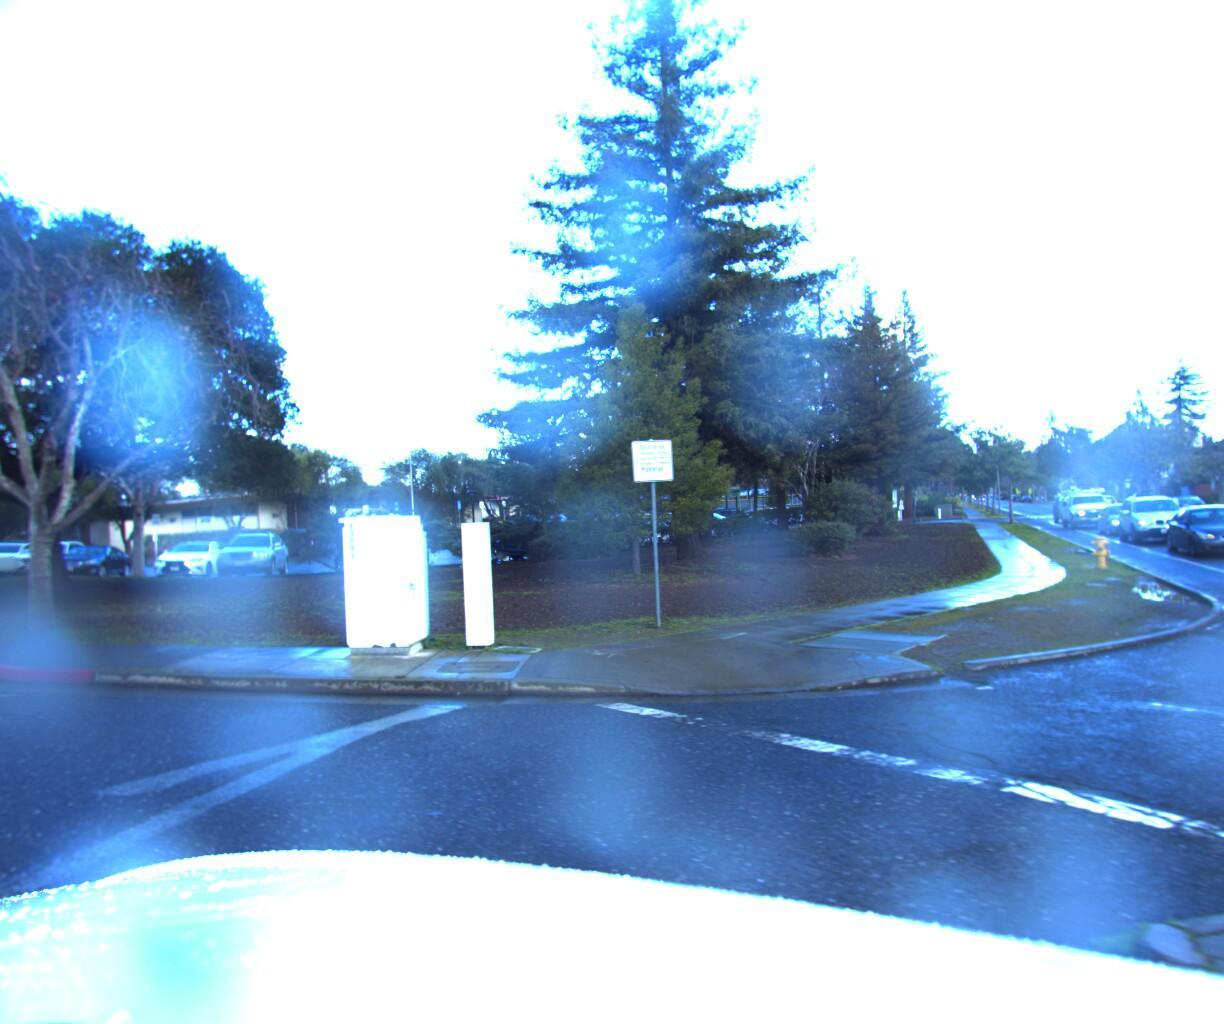car: (1116, 502, 1198, 544), (1158, 509, 1224, 560), (1052, 486, 1121, 529), (1092, 500, 1158, 535), (1156, 497, 1206, 522), (1208, 497, 1224, 529)
